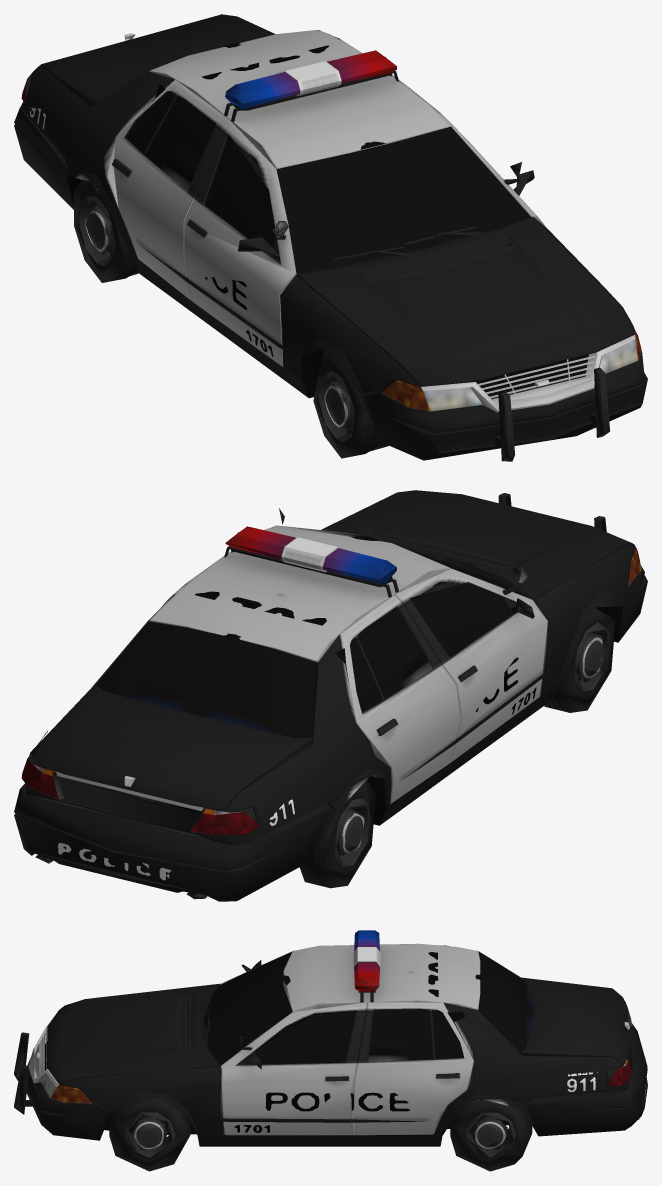
Rendered from svc_police_car.glb.
3 views of the same model, one above another, from view 1: azimuth 30°, elevation 25°; view 2: azimuth 150°, elevation 25°; view 3: azimuth 270°, elevation 25° (orthographic). The views are drawn at different scales.
Visible parts, largest first — view 1: svc_police_car; view 2: svc_police_car; view 3: svc_police_car.
Boxes of the visible parts, x1=… form: svc_police_car: x1=14, y1=14, x2=647, y2=461; svc_police_car: x1=14, y1=490, x2=647, y2=901; svc_police_car: x1=14, y1=930, x2=647, y2=1171.
Size of the model in its own units: 1.77 by 1.4 by 4.6.
Materials: 1 (1 with a texture image).
